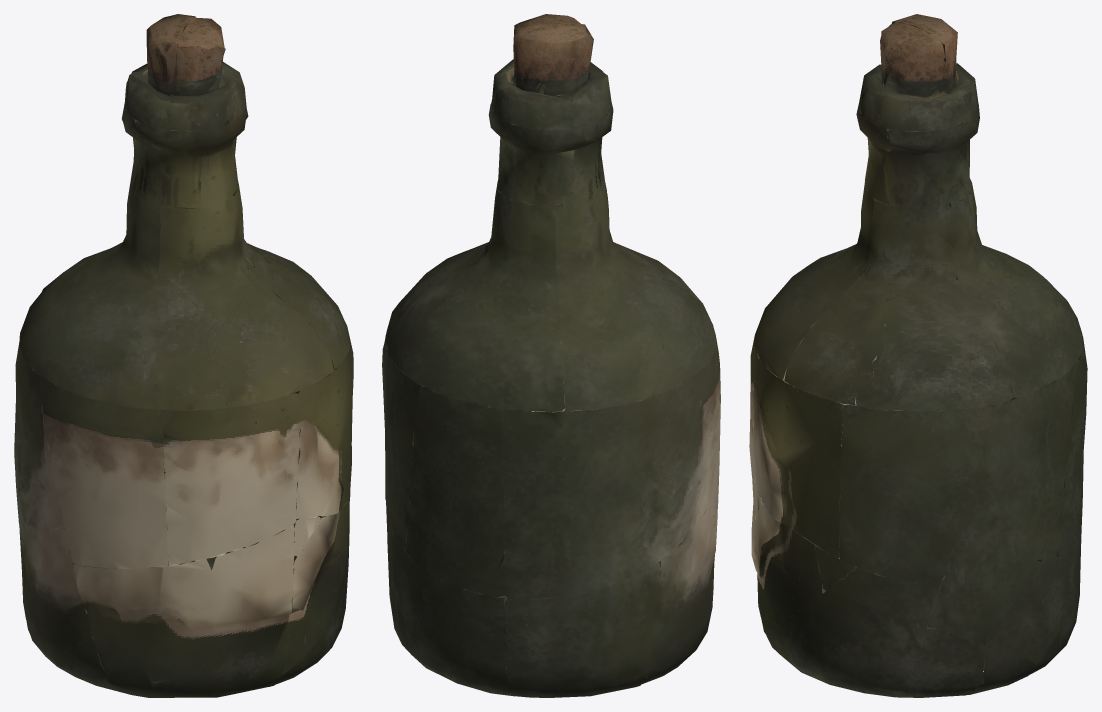
Rendered from mn_bottle.glb.
3 renders of one model, left to right at view 1: azimuth 30°, elevation 25°; view 2: azimuth 150°, elevation 25°; view 3: azimuth 270°, elevation 25°, orthographic.
Parts seen in each view (by area): view 1: mn_bottle; view 2: mn_bottle; view 3: mn_bottle.
Part boxes in pixels (x1,y1,x2,y2): mn_bottle: (14,14,353,697); mn_bottle: (382,14,720,697); mn_bottle: (749,14,1087,697).
Bounding box in the file's own units: 0.146 × 0.3002 × 0.146.
Materials: 1 (1 with a texture image).
